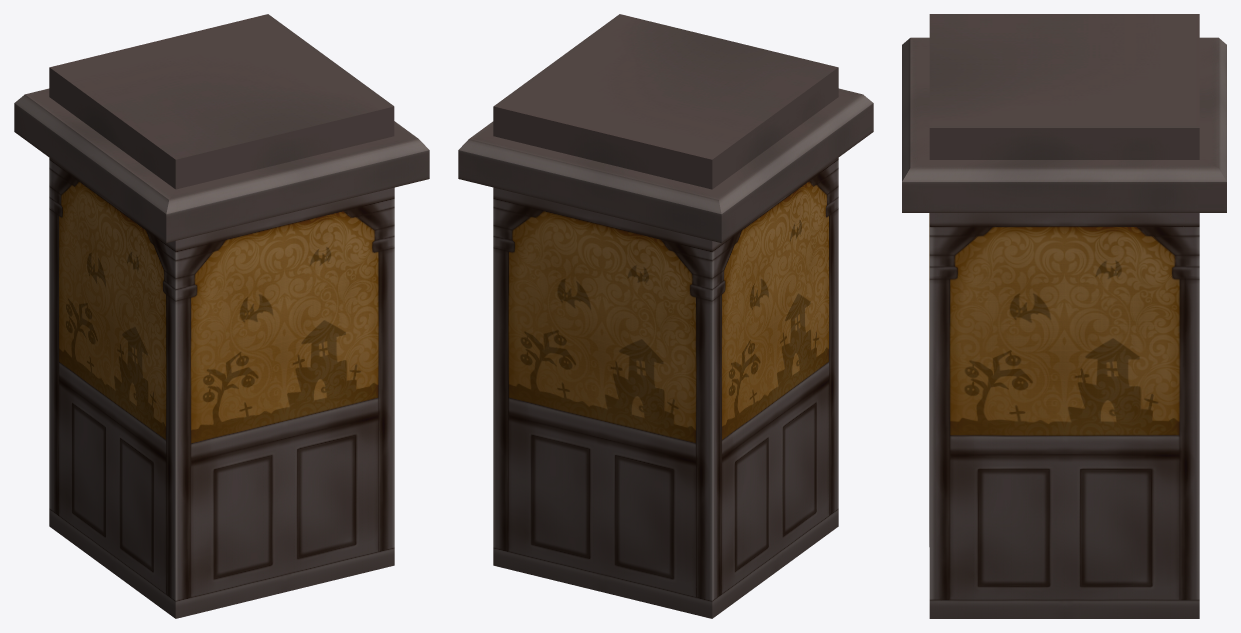
File: wall_fbx.fbx
3 renders of one model, left to right at view 1: azimuth 30°, elevation 25°; view 2: azimuth 150°, elevation 25°; view 3: azimuth 270°, elevation 25°, orthographic. The views are drawn at different scales.
Parts seen in each view (by area): view 1: wall_half:polySurface16; view 2: wall_half:polySurface16; view 3: wall_half:polySurface16.
Part boxes in pixels (x1=…): wall_half:polySurface16: x1=14, y1=14, x2=429, y2=618; wall_half:polySurface16: x1=458, y1=14, x2=873, y2=618; wall_half:polySurface16: x1=902, y1=14, x2=1226, y2=618.
Bounding box in the file's own units: 2.57 × 4.28 × 2.57.
